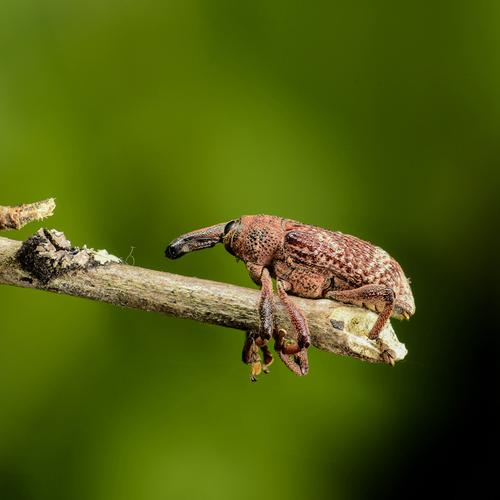Curculionidae: (164, 212, 417, 383)
